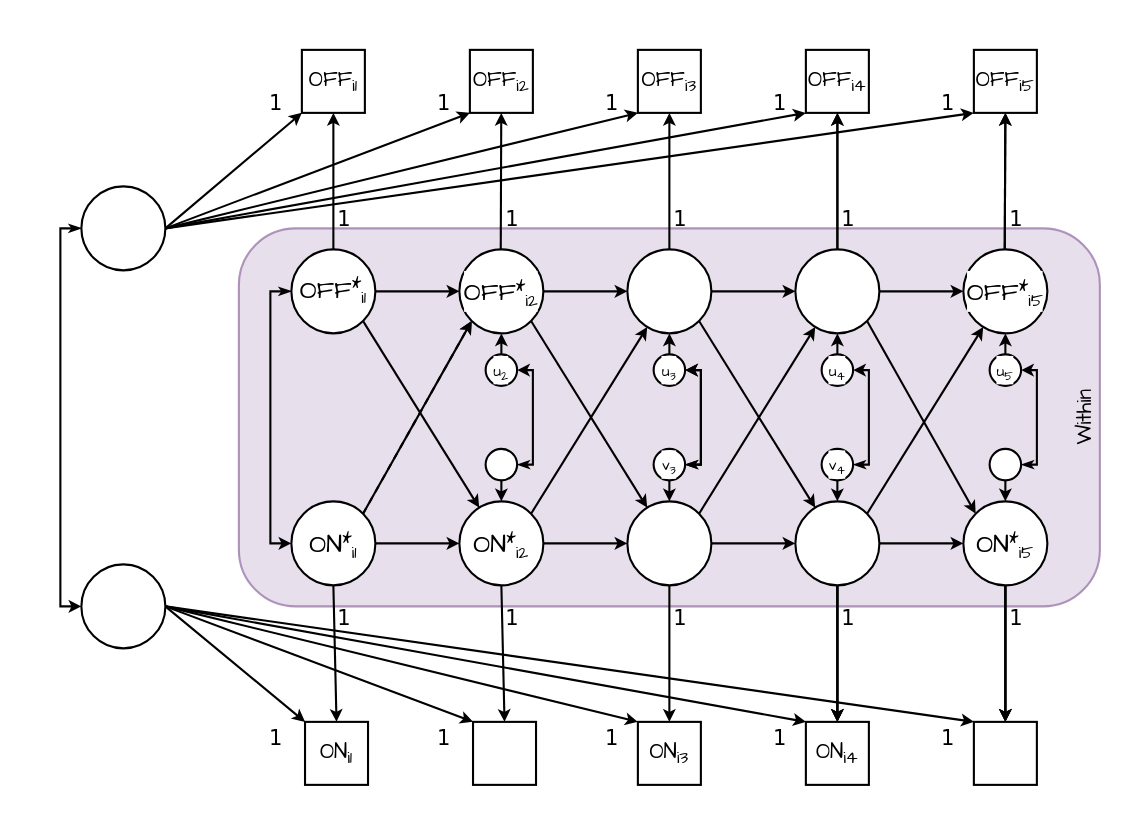
Image size: 1128x834. Some labels were removed from this diagram. Each missing label, with the box of its shape:
OFF * i 3: (626, 248, 712, 334)
OFF * i 4: (794, 248, 880, 334)
ON * i 3: (626, 500, 712, 586)
ON * i 4: (794, 500, 880, 586)
ON i2: (471, 720, 537, 785)
ON i5: (972, 720, 1037, 785)
RI OFFi: (80, 185, 166, 271)
RI ONi: (80, 563, 166, 649)
v 2: (484, 447, 518, 481)
v 5: (988, 447, 1022, 481)
